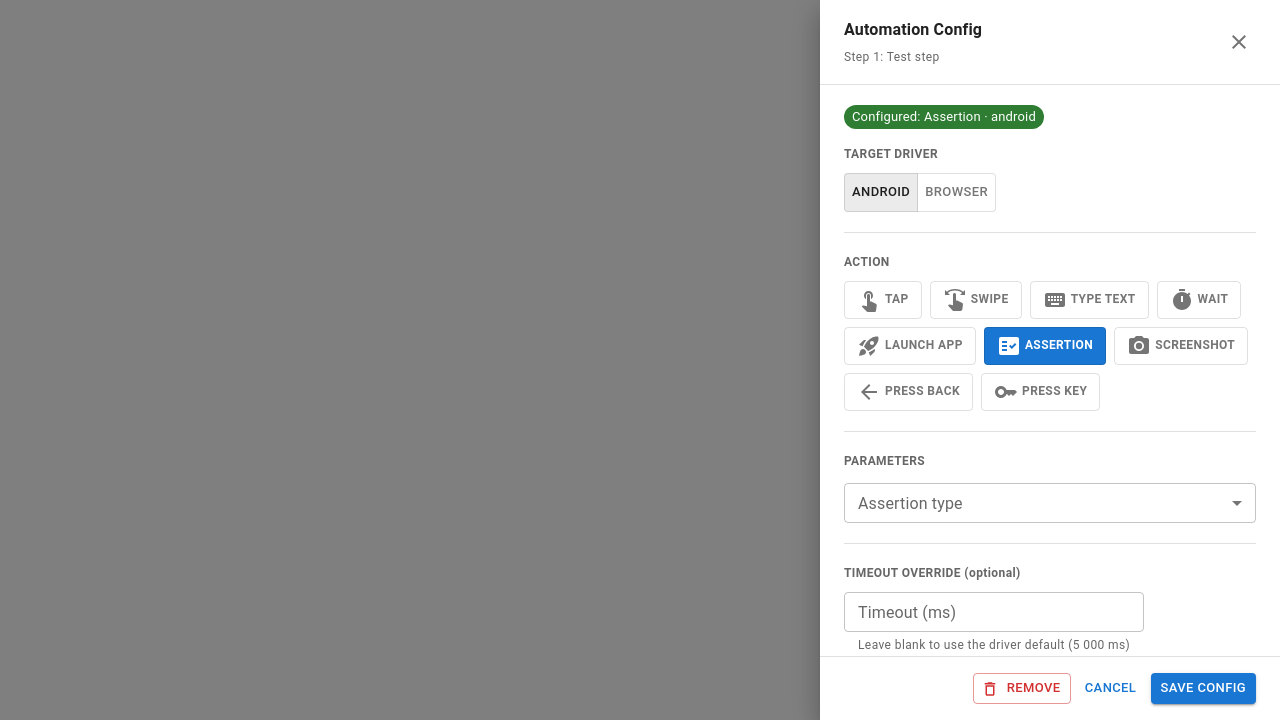
Test: AutomationConfigEditor — assertion action renders › shows all 13 assertion kinds in dropdown
Press the mouse on the dropdown at {"x": 1050, "y": 504}, box [844, 484, 1256, 524]
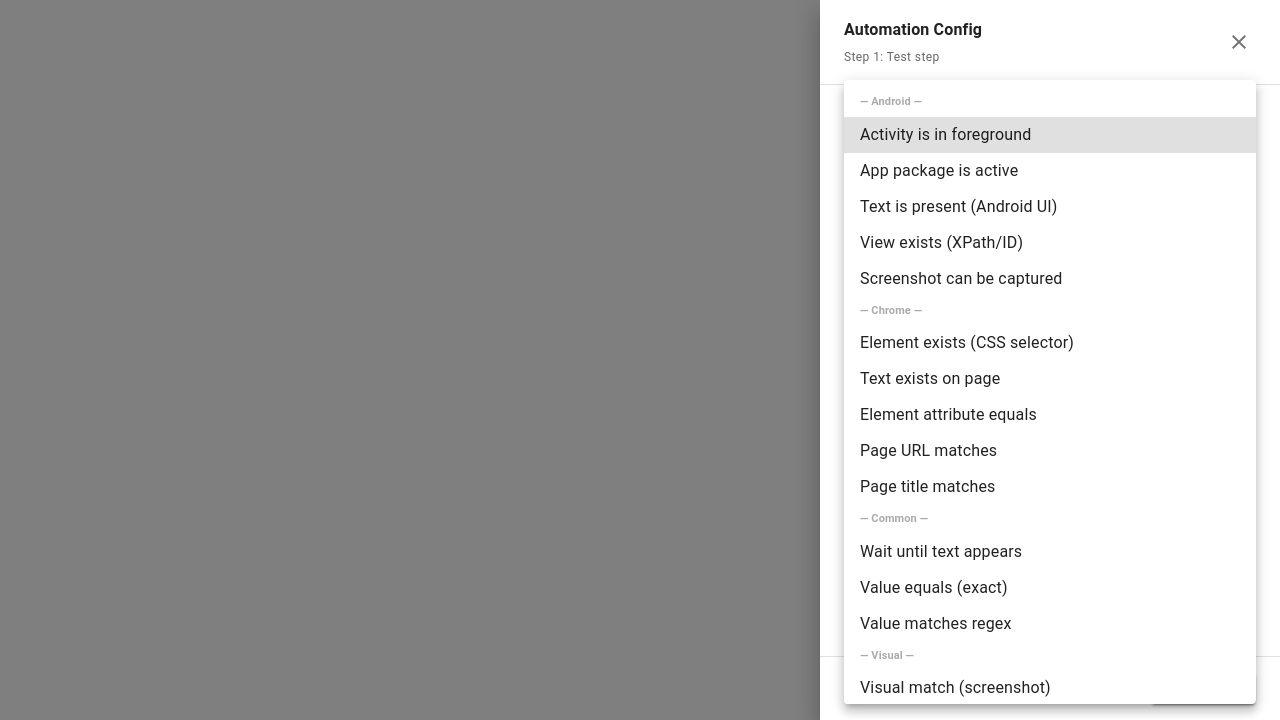
Check: the option "Activity is in foreground" is shown, box [844, 116, 1256, 152]
Check: the option "App package is active" is shown, box [860, 160, 1018, 180]
Check: the option "Text is present (Android UI)" is shown, box [860, 196, 1058, 216]
